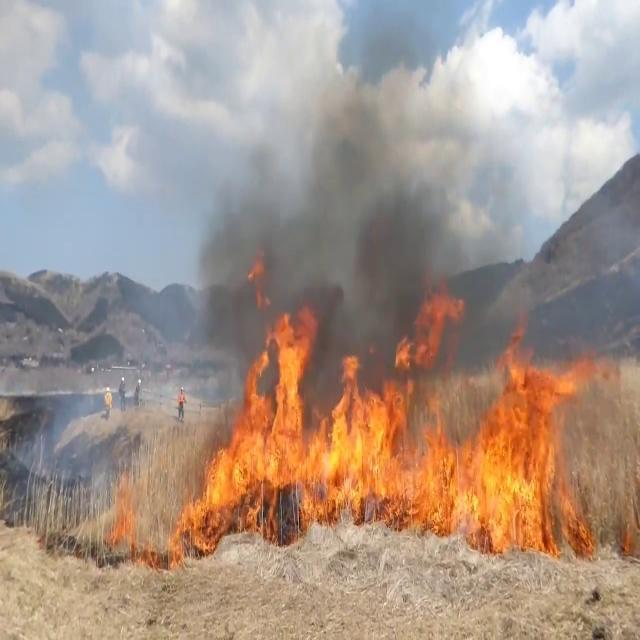Fire: (185, 288, 595, 540)
Smoke: (167, 14, 467, 378)
